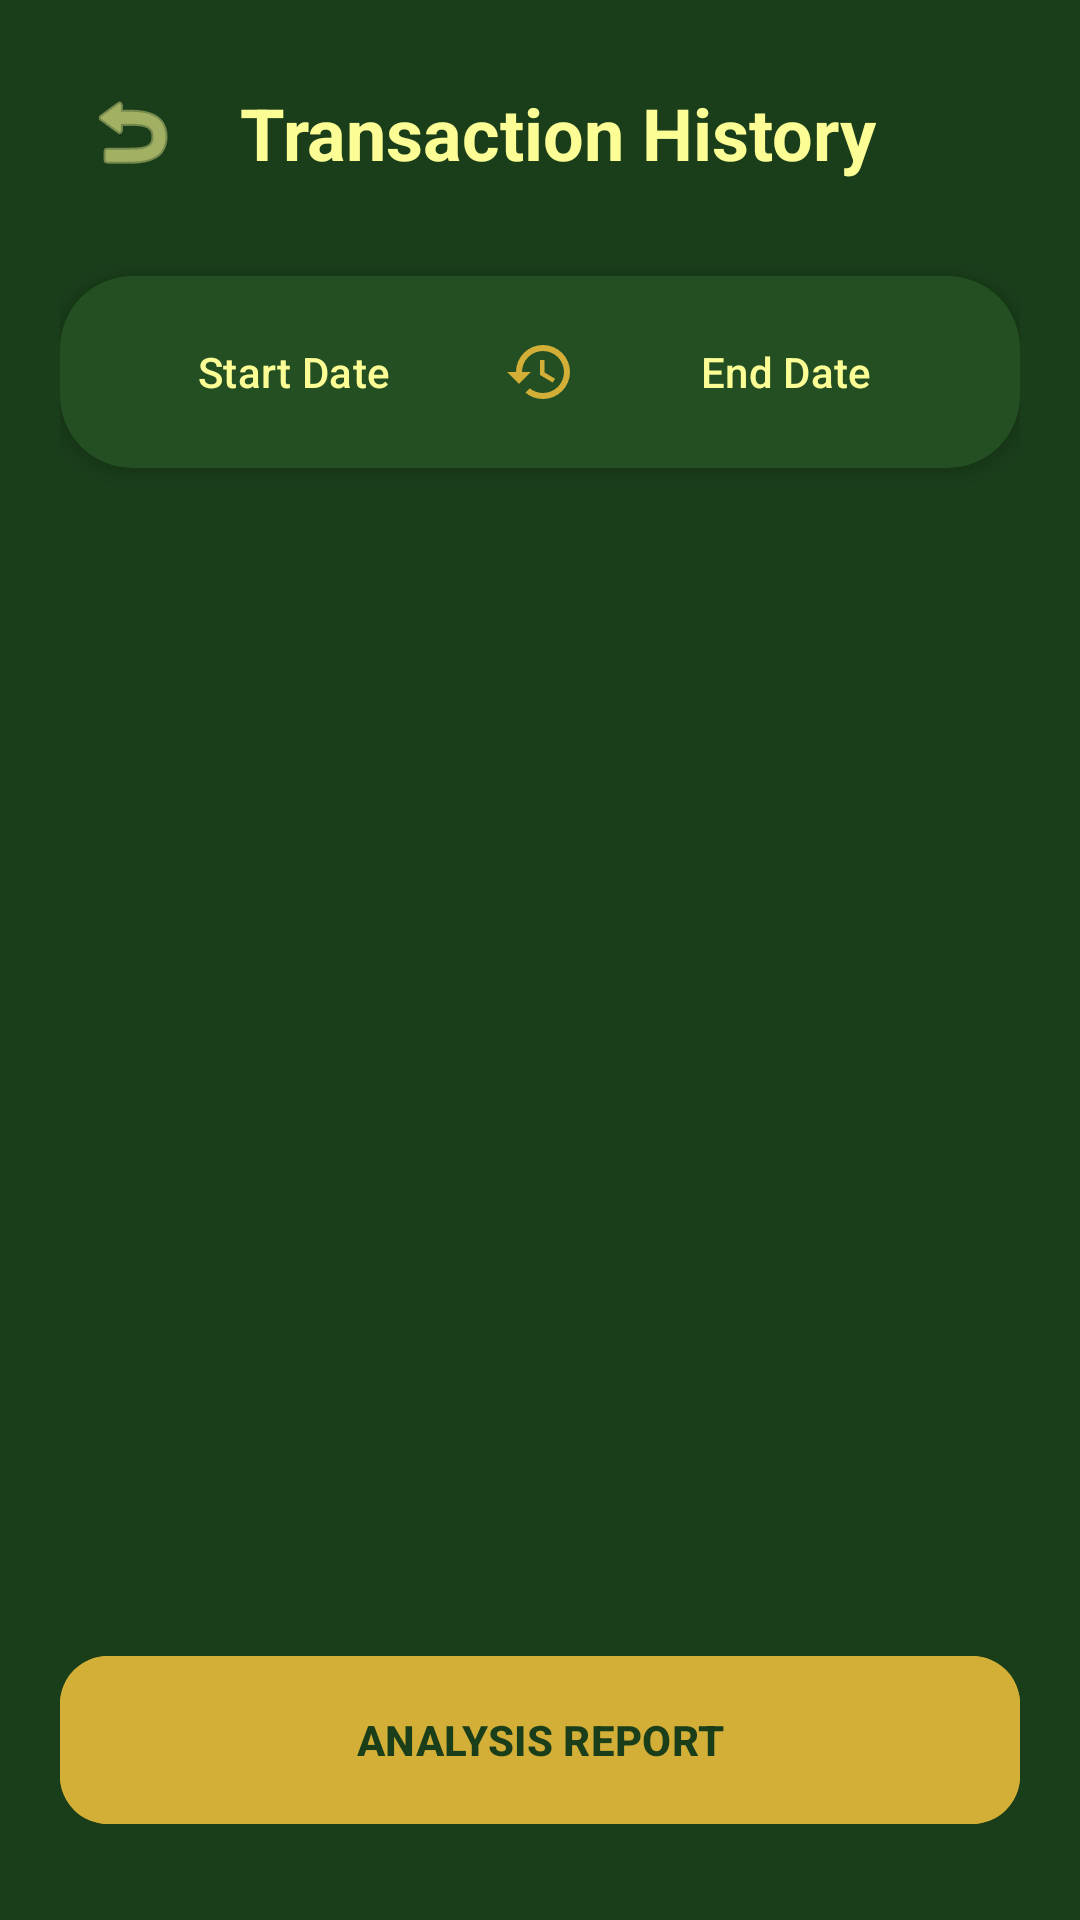

Locate icon controls on the screen. Image size 1080*1920, boxes as (x1, y1, x2, y2).
history: (507, 345, 570, 399)
revert: (99, 101, 168, 164)
